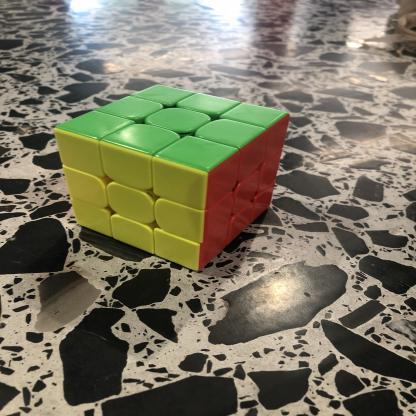SolvedCube: (51, 74, 312, 275)
